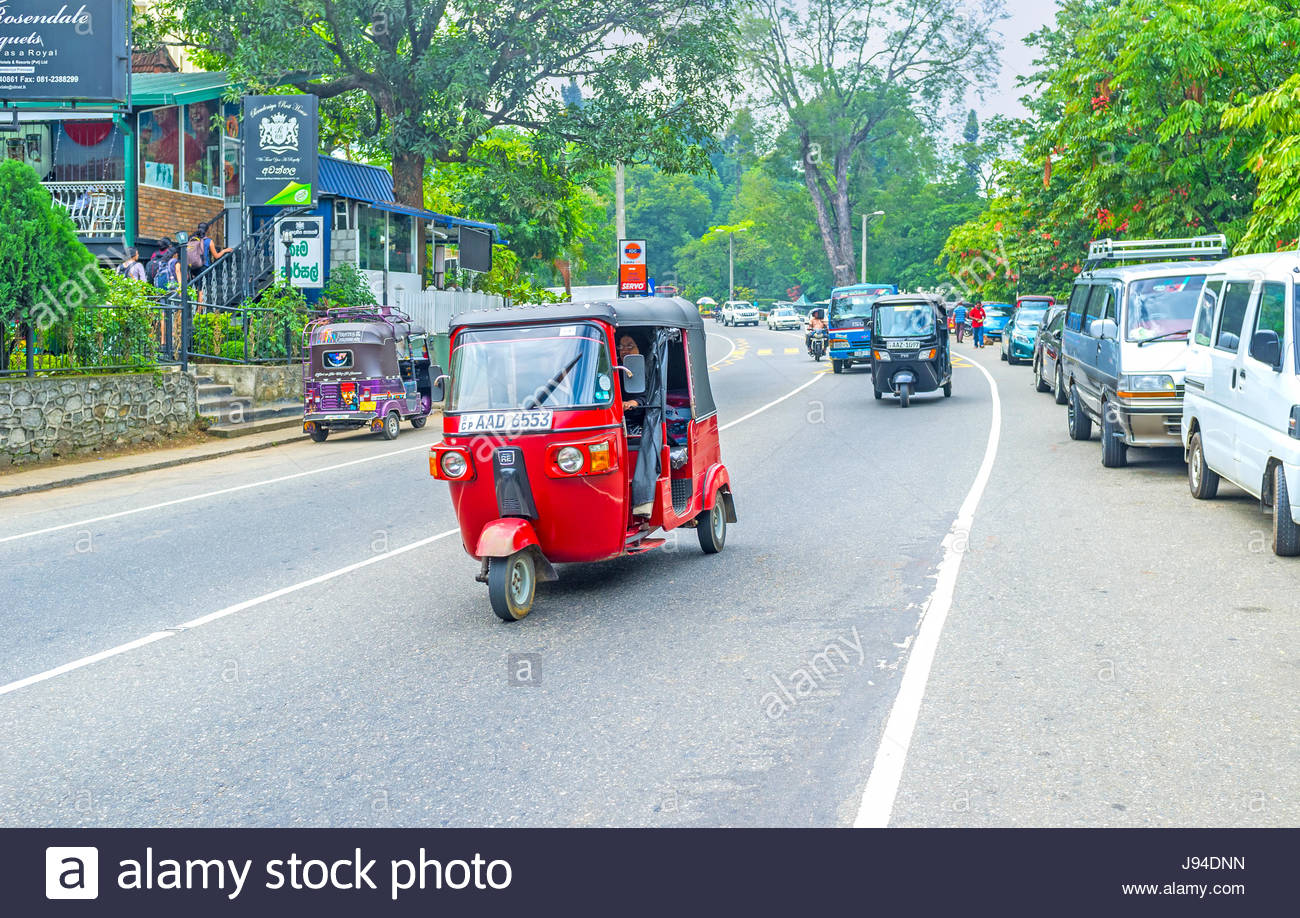bike: (807, 310, 829, 360)
car: (1031, 312, 1065, 401), (1002, 311, 1041, 365), (722, 301, 761, 326), (981, 305, 1006, 337), (769, 308, 801, 330)
lorry: (829, 286, 893, 373)
threewheel: (443, 297, 731, 617), (303, 323, 426, 438), (873, 295, 953, 405)
van: (1185, 250, 1300, 556), (1063, 260, 1203, 466)
